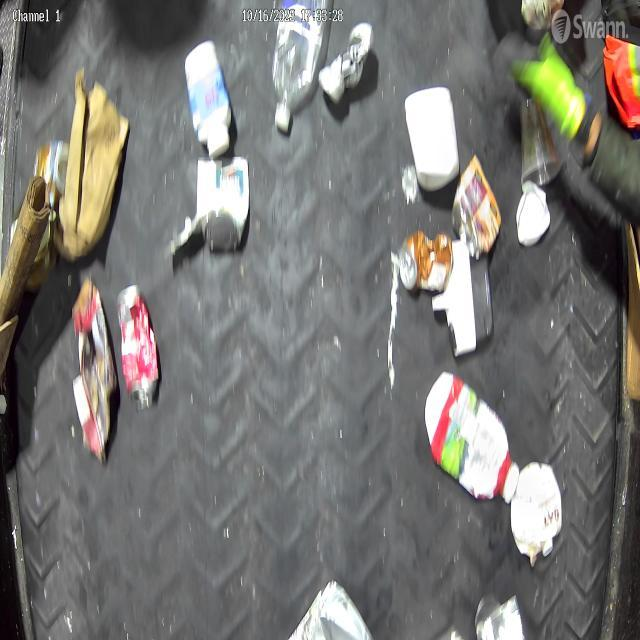can: (172, 153, 246, 271), (115, 280, 172, 408), (450, 160, 509, 269), (394, 215, 459, 306)
milk_jug: (425, 365, 519, 508)
plastic_bottle: (272, 0, 325, 139)
